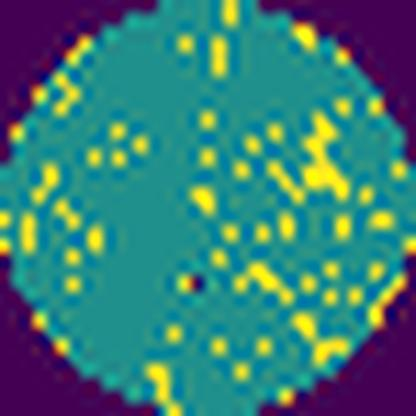Loc: (265, 111, 349, 209), (234, 260, 295, 308)
